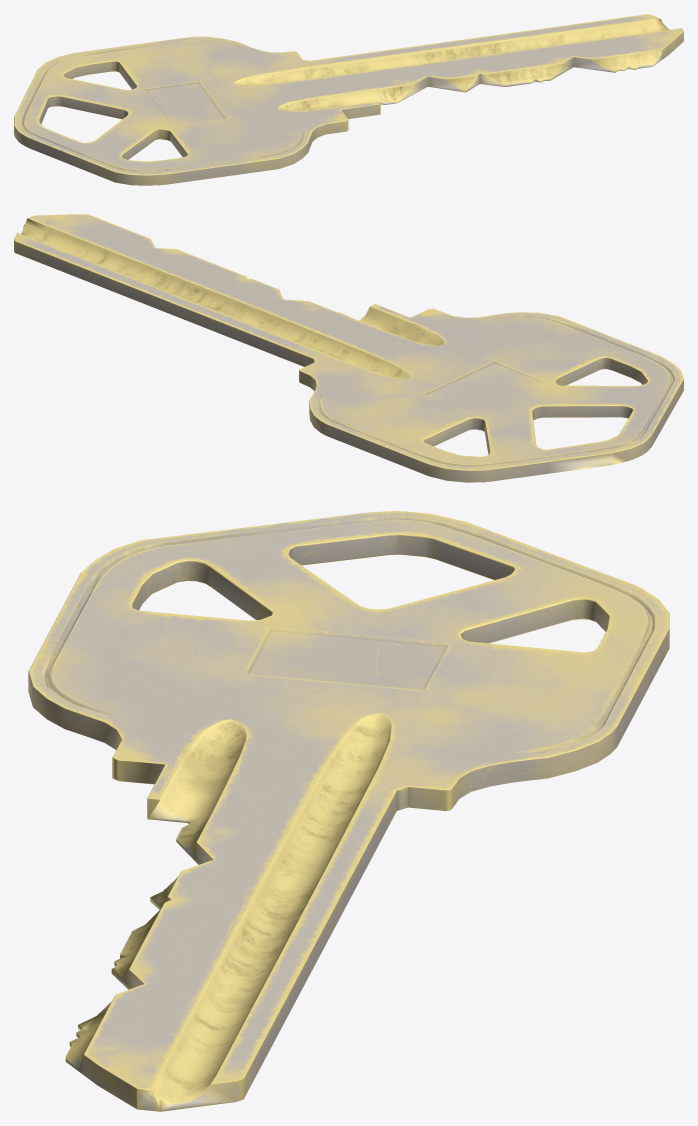
3 views of the same model, one above another, from view 1: azimuth 30°, elevation 25°; view 2: azimuth 150°, elevation 25°; view 3: azimuth 270°, elevation 25° (orthographic). The views are drawn at different scales.
Visible parts, largest first — view 1: Key_002_Lo_Key 002_0; view 2: Key_002_Lo_Key 002_0; view 3: Key_002_Lo_Key 002_0.
Boxes of the visible parts, x1,y1,x2,y2 form: Key_002_Lo_Key 002_0: [14, 14, 683, 185]; Key_002_Lo_Key 002_0: [14, 214, 683, 482]; Key_002_Lo_Key 002_0: [28, 511, 669, 1111].
Size of the model in its own units: 8.8 by 0.1978 by 4.06.
1 material, 1 textured.
